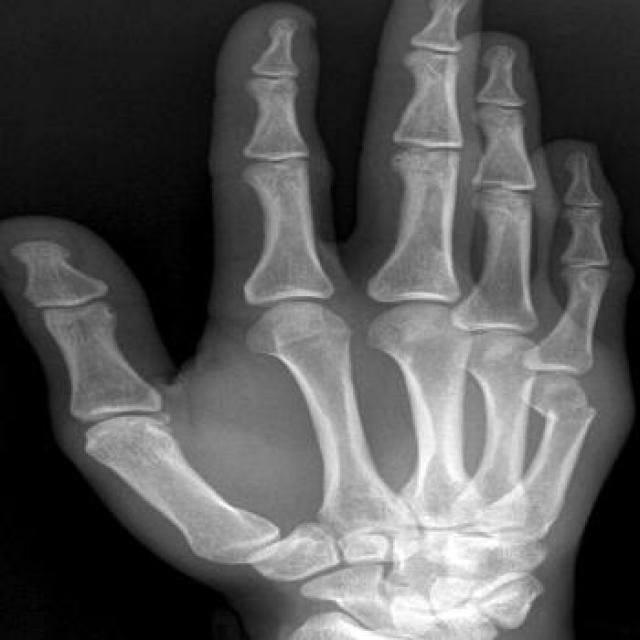Fracture: (535, 395, 613, 430)
